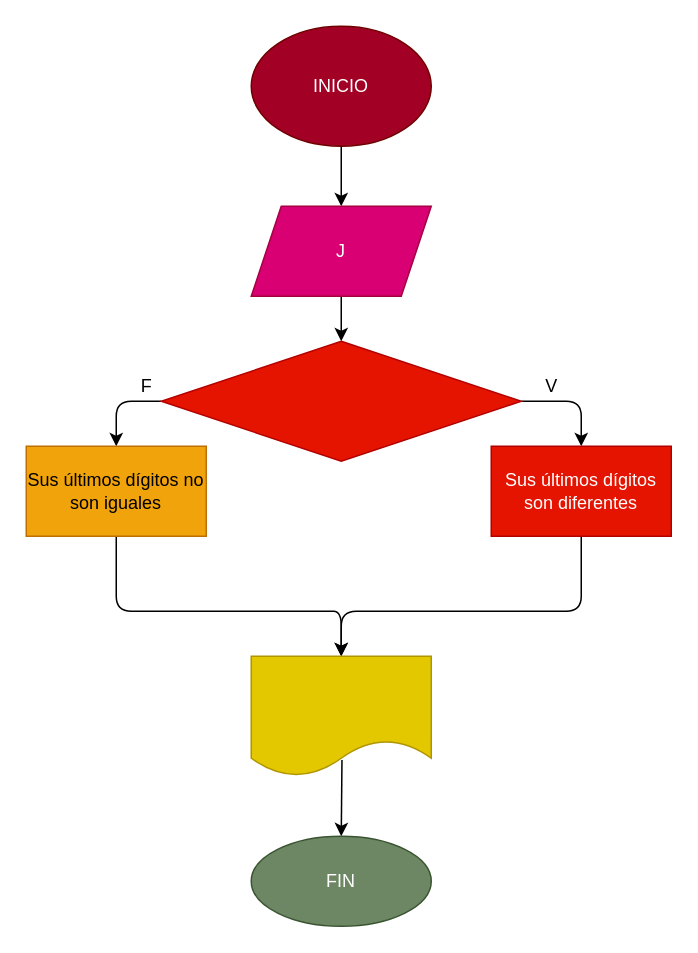
The diagram is 698 pixels wide and 953 high, and some of its shapes have lost their labels. The centre of each missing label's shape, as x and y in pixels:
"slon" belongs at (x=340, y=715).
"Último dígito==Penúltimo dígito" belongs at (x=340, y=400).
